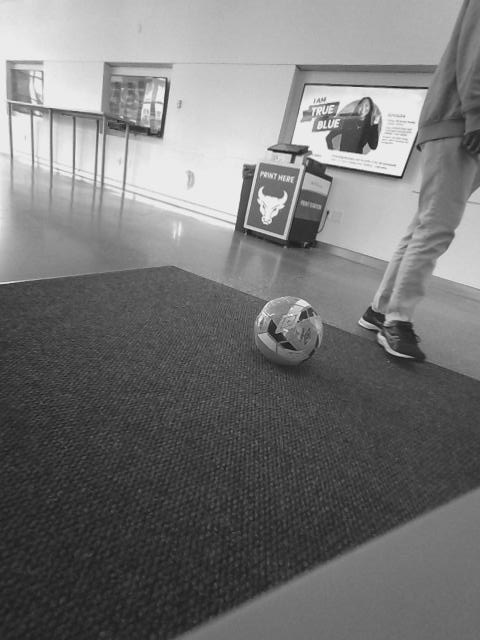ball: (251, 292, 325, 366)
